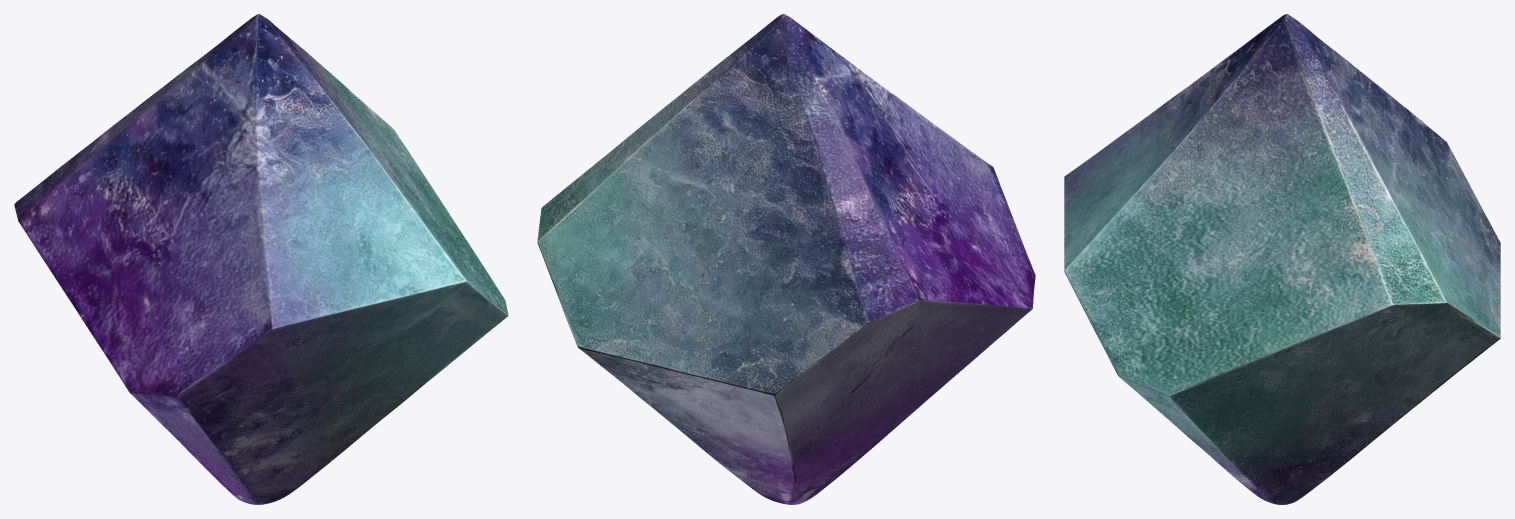
File: fluorite.glb
3 renders of one model, left to right at view 1: azimuth 30°, elevation 25°; view 2: azimuth 150°, elevation 25°; view 3: azimuth 270°, elevation 25°, orthographic.
Parts seen in each view (by area): view 1: fluorite; view 2: fluorite; view 3: fluorite.
Boxes of the visible parts, x1,y1,x2,y2 form: fluorite: (14, 14, 508, 504); fluorite: (537, 14, 1035, 504); fluorite: (1064, 14, 1500, 504).
Size of the model in its own units: 0.8106 by 1 by 0.8137.
1 material, 1 textured.
